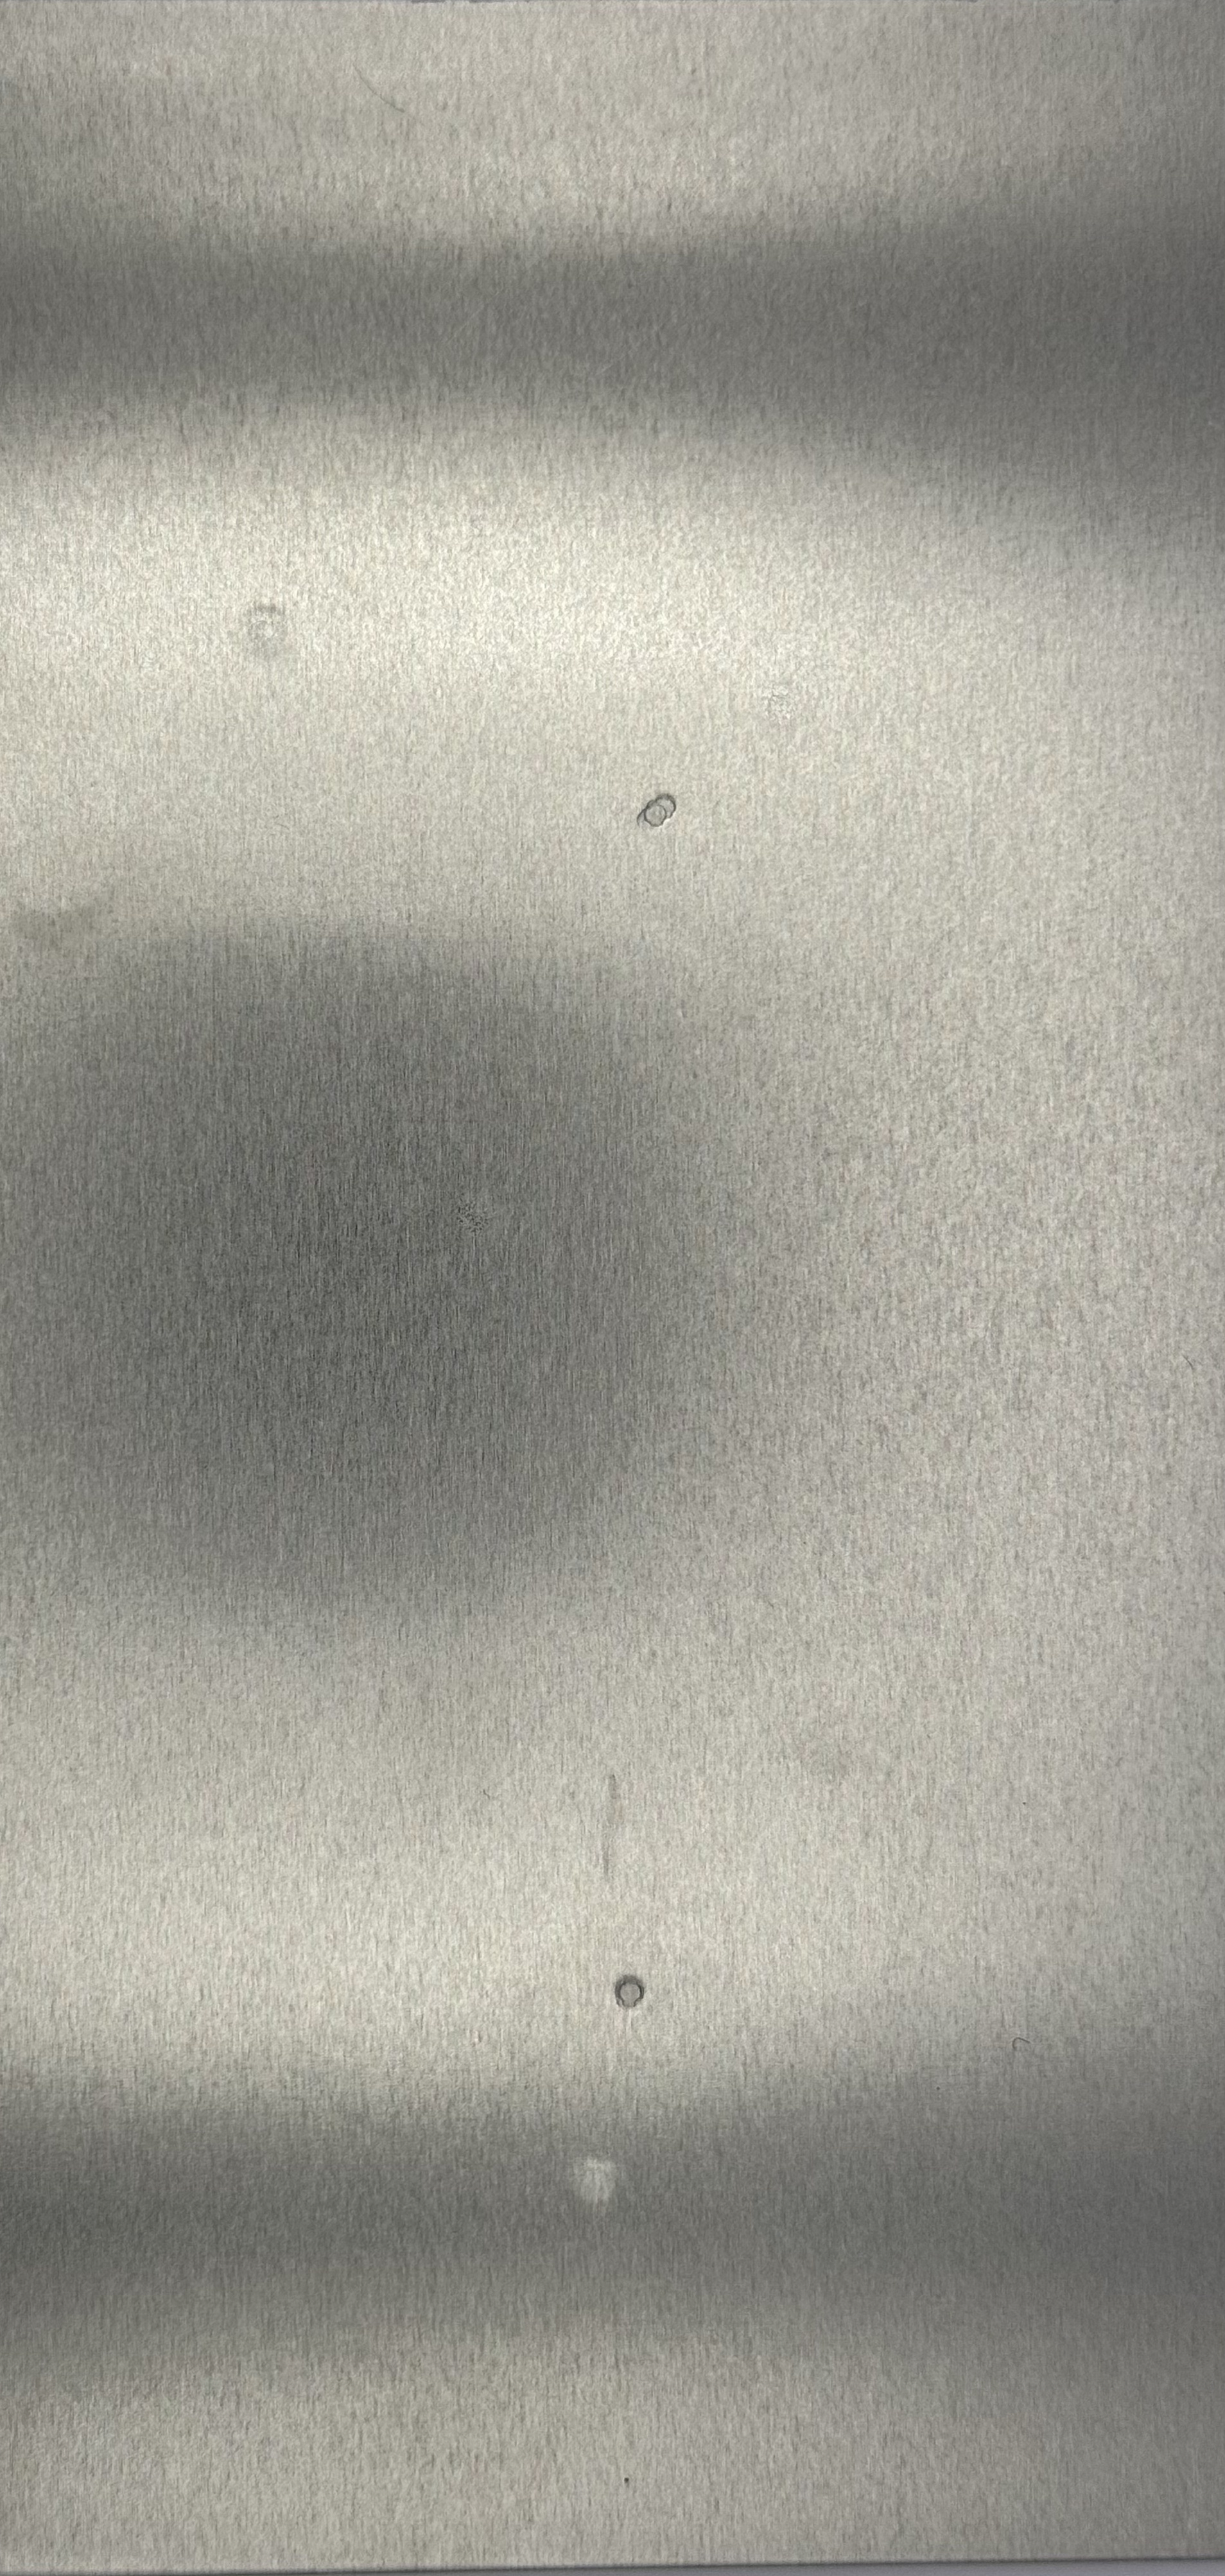Delle: (217, 590, 312, 680), (553, 2147, 650, 2234), (590, 1952, 668, 2019), (614, 782, 700, 843)
